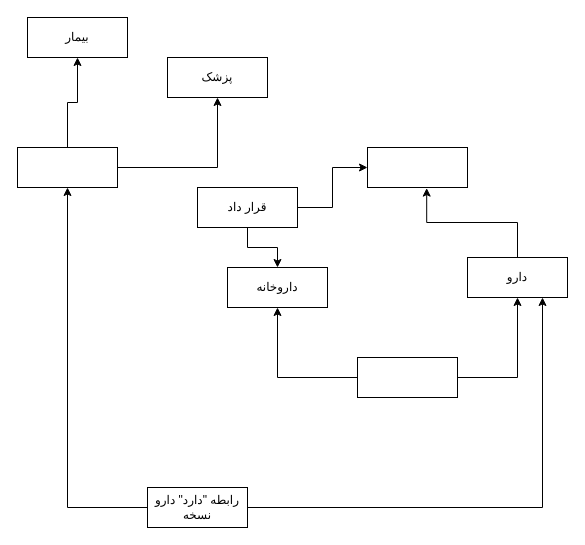
Image size: 585x545. Some labels were removed from this diagram. The centre of each missing label's shape, as x and y in pixels:
"شرکت داروسازی" belongs at [417,167].
"فروش" belongs at [407,377].
"نسخه" belongs at [67,167].
